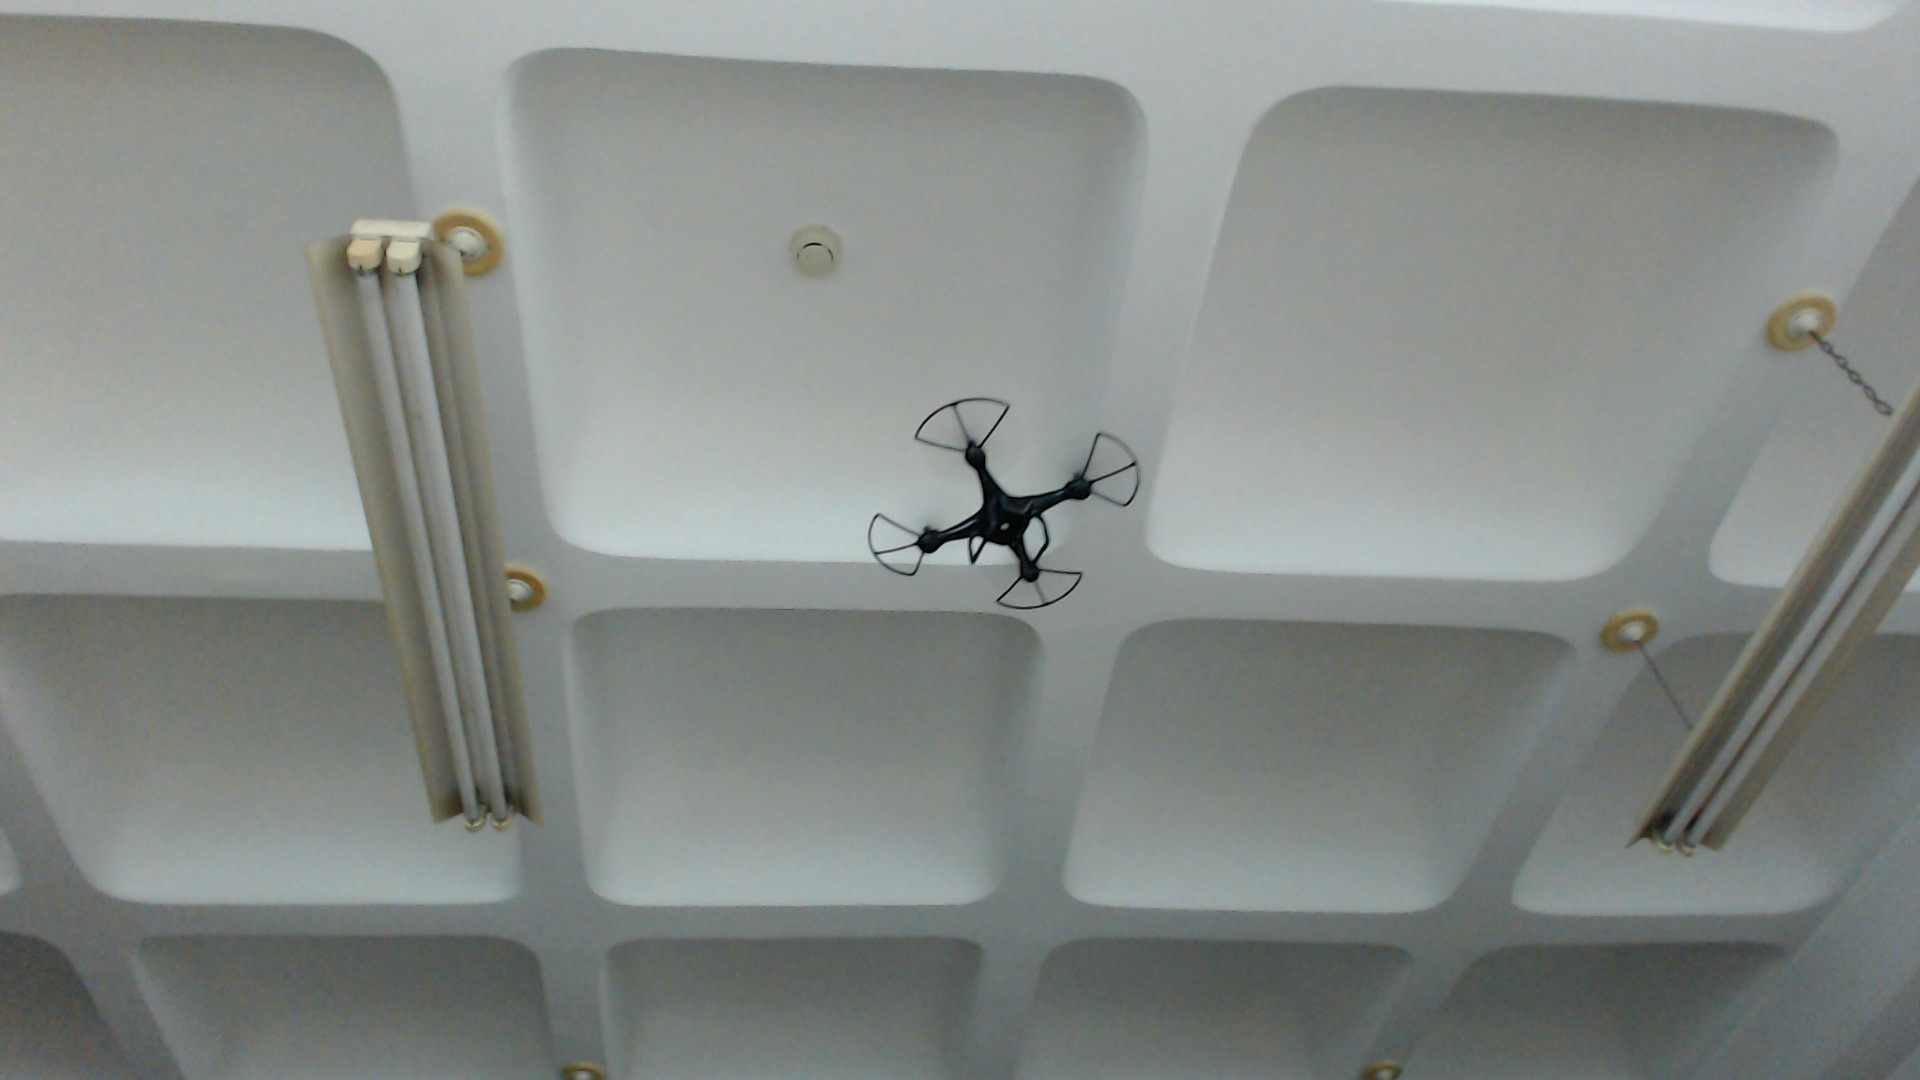test_drone: (864, 392, 1149, 616)
